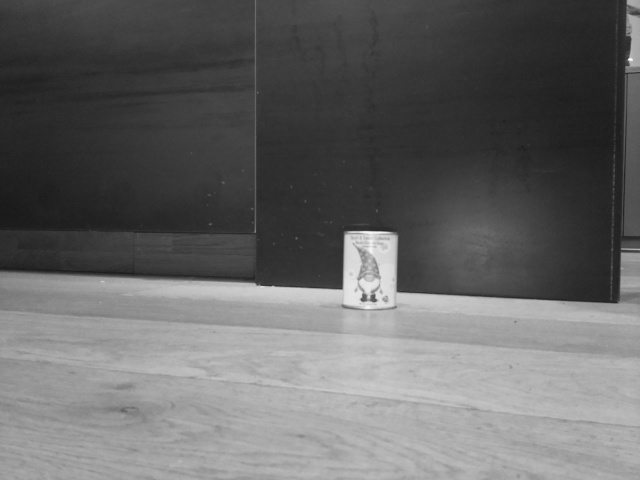gnome: (347, 241, 393, 305)
